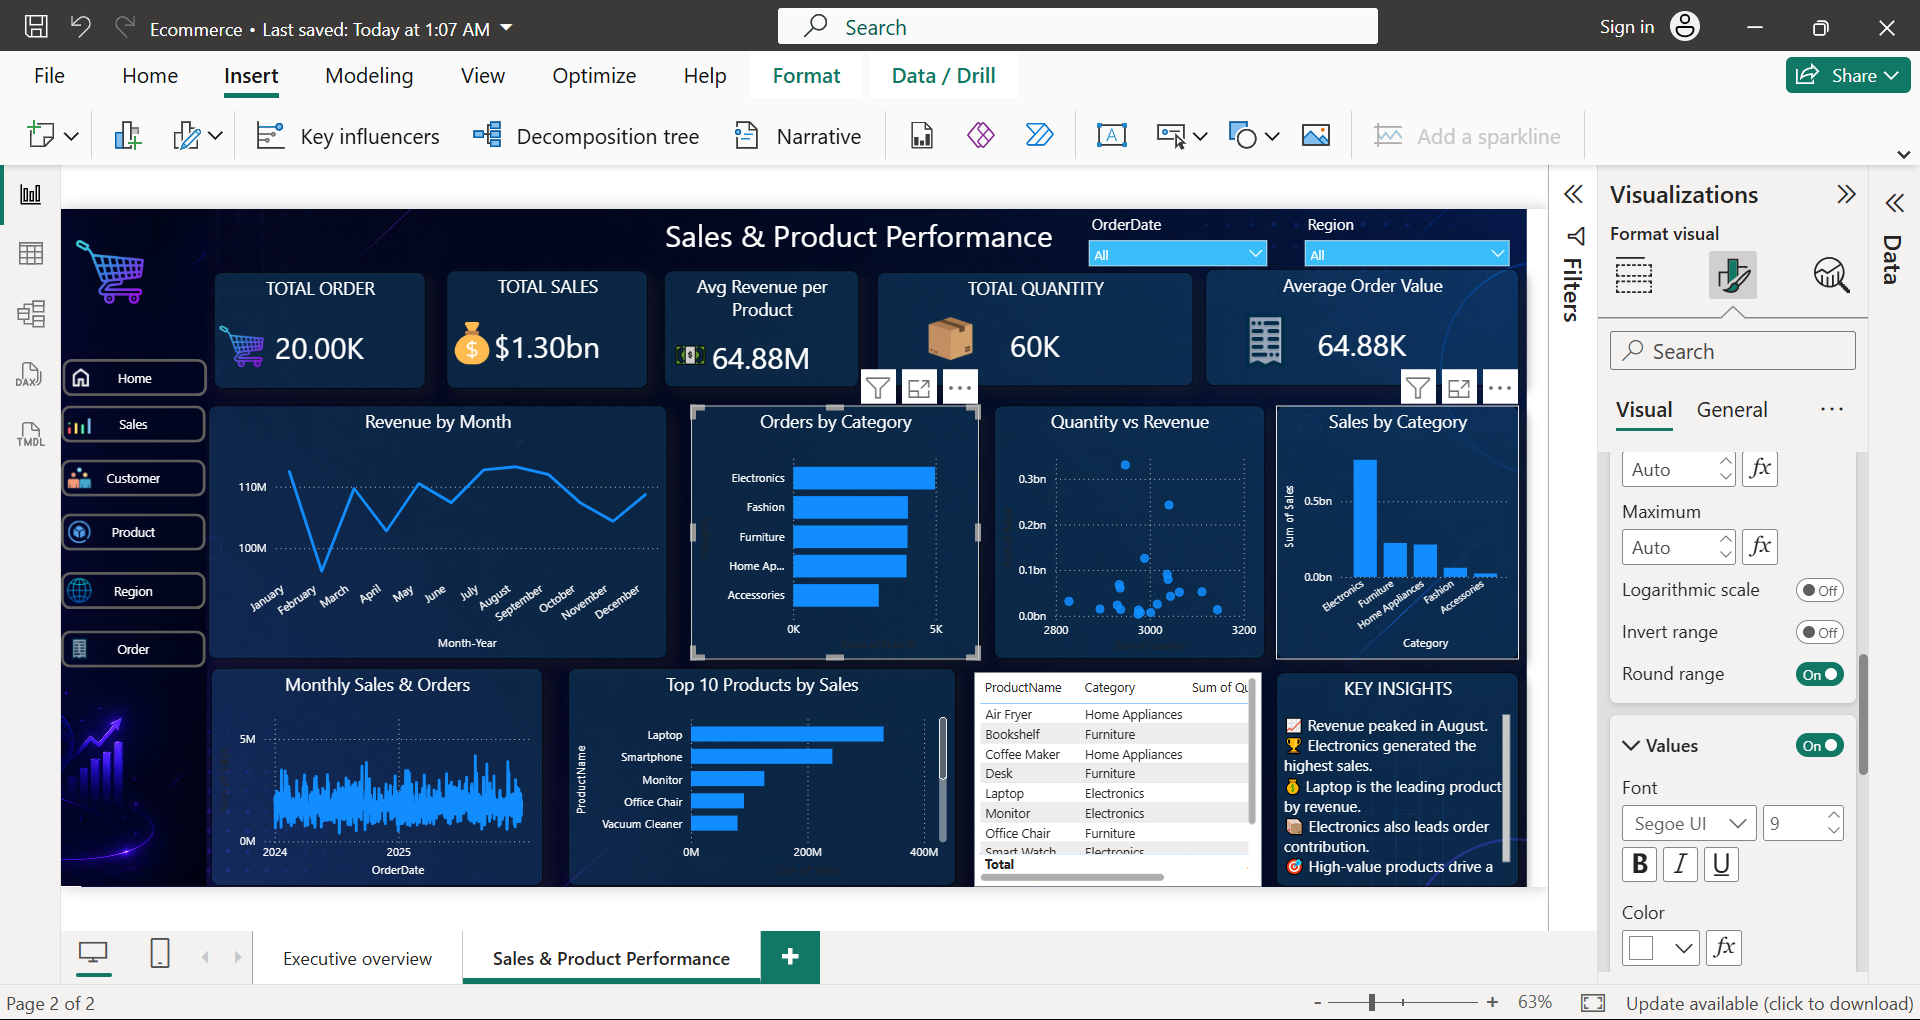

The dashboard page shown, as its layout file describes it:
{"tool":"powerbi","page":{"name":"Sales & Product Performance","canvas":[1580,720],"ordinal":1},"visuals":[{"type":"card","title":"TOTAL ORDER","fields":{"Values":["Count(ecommerce_orders.OrderID)"]},"box":[162.6,66.9,224.7,124.3],"z":0},{"type":"image","box":[162.6,117.9,59,55.8],"z":1000},{"type":"card","title":"TOTAL SALES","fields":{"Values":["Sum(ecommerce_orders.Sales)"]},"box":[409.3,65.1,214.3,125.5],"z":2000},{"type":"card","title":"Avg Revenue per Product","fields":{"Values":["customers.Average Revenue per Product"]},"box":[640.5,65.1,207.4,124.2],"z":3000},{"type":"card","title":"Average Order Value","fields":{"Values":["customers.Average Order Value"]},"box":[1216.1,63.8,333.1,124.3],"z":4000},{"type":"card","title":"TOTAL QUANTITY","fields":{"Values":["Sum(ecommerce_orders.Quantity)"]},"box":[867,66.9,336.3,121.1],"z":5000},{"type":"image","box":[0,0,154.4,719.2],"z":6000},{"type":"image","box":[5.6,24,91.6,86],"z":7000},{"type":"textbox","box":[135.5,0,1424.9,66.9],"z":8000},{"type":"image","box":[412.8,117.9,47.8,49.4],"z":9000},{"type":"image","box":[1236.8,106.8,86.1,66.9],"z":10000},{"type":"lineChart","title":"Revenue by Month","fields":{"Y":["Sum(ecommerce_orders.Sales)"],"Category":["ecommerce_orders.OrderDate.Variation.Date Hierarchy.Month"]},"box":[156.5,208.7,487.8,269.3],"z":11000},{"type":"barChart","title":"Orders by Category","fields":{"Category":["products.Category"],"Y":["CountNonNull(ecommerce_orders.OrderID)"]},"box":[669.1,209.3,306.5,269.1],"z":12000},{"type":"scatterChart","title":"Quantity vs Revenue","fields":{"X":["Sum(ecommerce_orders.Quantity)"],"Y":["Sum(ecommerce_orders.Sales)"],"Category":["products.ProductName"]},"box":[991.8,209,287.7,269.5],"z":13000},{"type":"lineChart","title":"Monthly Sales & Orders","fields":{"Category":["ecommerce_orders.OrderDate"],"Y":["Sum(ecommerce_orders.Sales)"]},"box":[159.3,487.8,352.5,231.2],"z":14000},{"type":"clusteredBarChart","title":"Top 10 Products by Sales","fields":{"Y":["Sum(ecommerce_orders.Sales)"],"Category":["products.ProductName"]},"box":[538.6,487.8,411.7,231.2],"z":15000},{"type":"clusteredColumnChart","title":"Sales by Category","fields":{"Category":["products.Category"],"Y":["Sum(ecommerce_orders.Sales)"]},"box":[1291.5,209.3,257.9,269.1],"z":16000},{"type":"textbox","title":"KEY INSIGHTS","box":[1291.5,492.1,258,227],"z":17000},{"type":"slicer","fields":{"Values":["ecommerce_orders.OrderDate"]},"box":[1082.2,0,209.3,63.5],"z":18000},{"type":"slicer","fields":{"Values":["ecommerce_orders.Region"]},"box":[1312.1,0,237.4,63.5],"z":19000},{"type":"actionButton","box":[1.4,159.3,153.7,39.5],"z":20000},{"type":"actionButton","box":[0,208.8,153.7,39.5],"z":21000},{"type":"actionButton","box":[0,266.2,153.7,39.5],"z":22000},{"type":"actionButton","box":[0,323.5,153.7,39.5],"z":23000},{"type":"actionButton","box":[0,385.7,153.7,39.5],"z":24000},{"type":"actionButton","box":[0,447.9,153.7,39.5],"z":25000},{"type":"image","box":[906.5,106.5,76.6,61.7],"z":26000},{"type":"image","box":[641.1,132.7,54.2,44.9],"z":27000},{"type":"tableEx","fields":{"Values":["ecommerce_orders.ProductName","products.Category","Sum(ecommerce_orders.Quantity)","Sum(ecommerce_orders.Sales)"]},"box":[970,492.1,304.5,227],"z":28000}]}

Visuals, with their boxes on the page's 1580x720 design canvas (x1, y1, x2, y2). These are canvas units, not pixel positions in the 1920x1020 screenshot, which may show the page scaled, cropped or inside an application window:
"TOTAL ORDER" card: pyautogui.locateOnScreen(163, 67, 387, 191)
image: pyautogui.locateOnScreen(163, 118, 222, 174)
"TOTAL SALES" card: pyautogui.locateOnScreen(409, 65, 624, 191)
"Avg Revenue per Product" card: pyautogui.locateOnScreen(640, 65, 848, 189)
"Average Order Value" card: pyautogui.locateOnScreen(1216, 64, 1549, 188)
"TOTAL QUANTITY" card: pyautogui.locateOnScreen(867, 67, 1203, 188)
image: pyautogui.locateOnScreen(0, 0, 154, 719)
image: pyautogui.locateOnScreen(6, 24, 97, 110)
textbox: pyautogui.locateOnScreen(136, 0, 1560, 67)
image: pyautogui.locateOnScreen(413, 118, 461, 167)
image: pyautogui.locateOnScreen(1237, 107, 1323, 174)
"Revenue by Month" lineChart: pyautogui.locateOnScreen(156, 209, 644, 478)
"Orders by Category" barChart: pyautogui.locateOnScreen(669, 209, 976, 478)
"Quantity vs Revenue" scatterChart: pyautogui.locateOnScreen(992, 209, 1280, 478)
"Monthly Sales & Orders" lineChart: pyautogui.locateOnScreen(159, 488, 512, 719)
"Top 10 Products by Sales" clusteredBarChart: pyautogui.locateOnScreen(539, 488, 950, 719)
"Sales by Category" clusteredColumnChart: pyautogui.locateOnScreen(1292, 209, 1549, 478)
"KEY INSIGHTS" textbox: pyautogui.locateOnScreen(1292, 492, 1550, 719)
slicer - ecommerce_orders.OrderDate: pyautogui.locateOnScreen(1082, 0, 1292, 64)
slicer - ecommerce_orders.Region: pyautogui.locateOnScreen(1312, 0, 1550, 64)
actionButton: pyautogui.locateOnScreen(1, 159, 155, 199)
actionButton: pyautogui.locateOnScreen(0, 209, 154, 248)
actionButton: pyautogui.locateOnScreen(0, 266, 154, 306)
actionButton: pyautogui.locateOnScreen(0, 324, 154, 363)
actionButton: pyautogui.locateOnScreen(0, 386, 154, 425)
actionButton: pyautogui.locateOnScreen(0, 448, 154, 487)
image: pyautogui.locateOnScreen(906, 106, 983, 168)
image: pyautogui.locateOnScreen(641, 133, 695, 178)
tableEx - ecommerce_orders.ProductName x products.Category: pyautogui.locateOnScreen(970, 492, 1274, 719)
